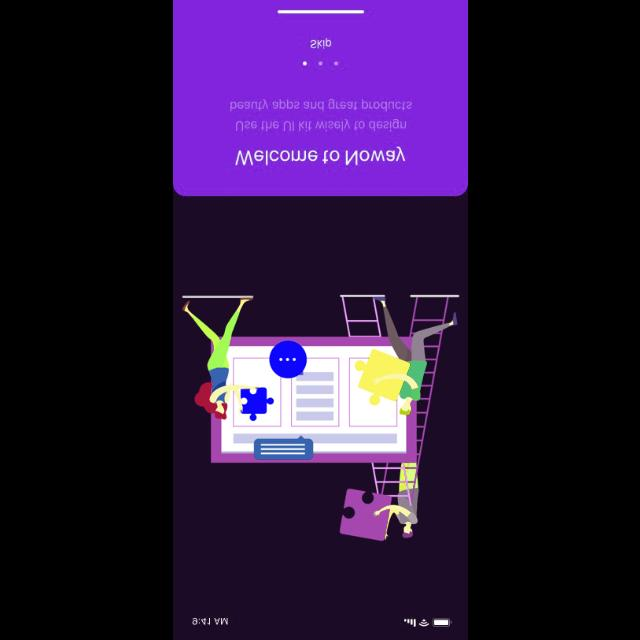image: (182, 294, 460, 542)
pageindicator: (302, 60, 338, 66)
text: (230, 98, 412, 132), (234, 146, 406, 166), (309, 38, 331, 48)
uppertaskbar: (192, 616, 452, 626)
